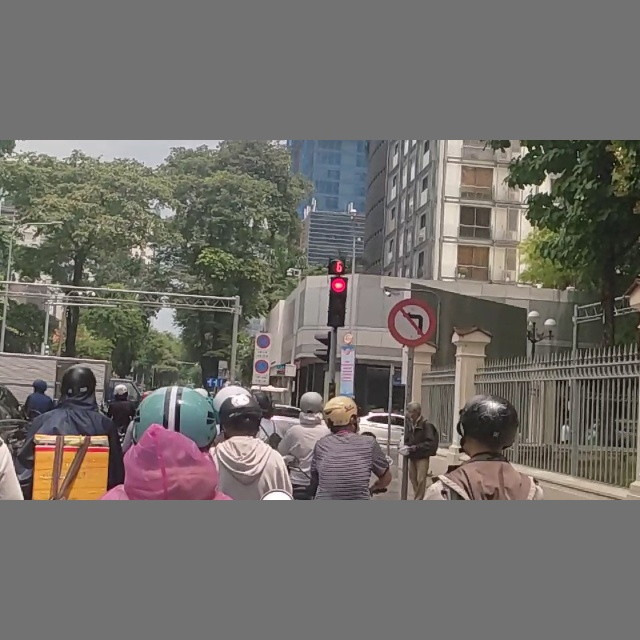P.123a: (387, 299, 437, 349)
P.130: (255, 334, 271, 350)
P.131a: (253, 359, 269, 375)
